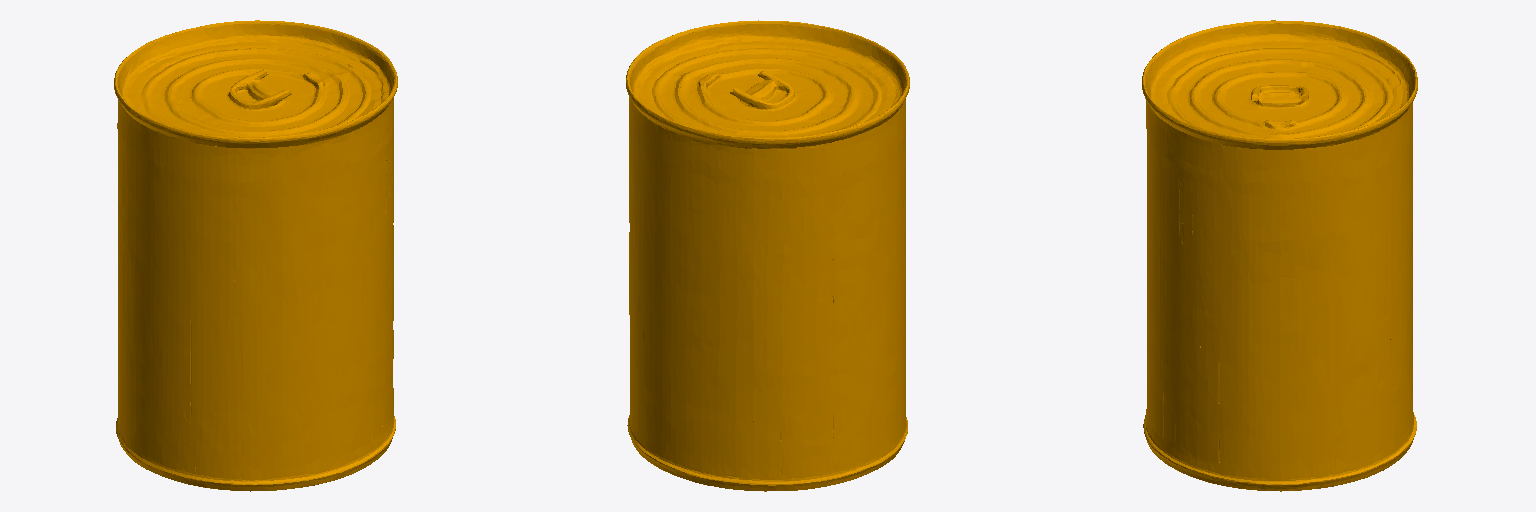
robot.urdf — sample:
<?xml version="1.0" ?>
<robot name="sample">
   <link name="sample">
      <visual>
         <origin xyz="0 0 0" rpy="1.5708 0.0 0.0"/>
         <geometry>
            <mesh filename="mesh/sample.obj" scale="1.0 1.0 1.0"/>
         </geometry>
      </visual>
      <collision>
         <origin xyz="0 0 0" rpy="1.5708 0.0 0.0"/>
         <geometry>
            <mesh filename="mesh/sample_collision.obj" scale="1.0 1.0 1.0"/>
         </geometry>
         <gazebo>
            <mu1>0.70</mu1>
            <mu2>0.50</mu2>
         </gazebo>
      </collision>
      <inertial>
         <mass value="0.5000"/>
         <origin xyz="0 0 0"/>
         <inertia ixx="1.0" ixy="0.0" ixz="0.0" iyy="1.0" iyz="0.0" izz="1.0"/>
      </inertial>
      <extra_info>
         <scale>0.135000</scale>
         <version>v0.1.7</version>
         <category>canned food</category>
         <description>blue labeled cylindrical can with fruit imagery</description>
         <min_height>0.12</min_height>
         <max_height>0.15</max_height>
         <real_height>0.135</real_height>
         <min_mass>0.4</min_mass>
         <max_mass>0.6</max_mass>
         <color>blue</color>
         <rgba>[0.0, 0.5, 1.0, 1.0]</rgba>
         <generate_time>20260615170915</generate_time>
         <gs_model>mesh/sample_gs.ply</gs_model>
      </extra_info>
   </link>
   <custom_data>
      <quality>
         <MeshGeoChecker>YES</MeshGeoChecker>
         <ImageSegChecker>NO, object is not fully extracted; background artifacts and incomplete segmentation present.</ImageSegChecker>
         <ImageAestheticChecker>4.249580144882202</ImageAestheticChecker>
         <overall>NO</overall>
      </quality>
   </custom_data>
</robot>

--- Render facts (derived) ---
The picture shows the robot from 3 angles, left to right: view 1: azimuth 30°, elevation 25°; view 2: azimuth 150°, elevation 25°; view 3: azimuth 270°, elevation 25°; orthographic projection.
Robot: sample — 1 links, 0 joints (none); root link sample; default pose: every joint at zero.
Links seen in each view (by area): view 1: sample; view 2: sample; view 3: sample.
Boxes of the visible links, x1,y1,x2,y2 form: sample: (114, 20, 397, 491); sample: (626, 20, 909, 491); sample: (1142, 20, 1417, 491).
Bounding box of the posed robot: 0.0984 × 0.0955 × 0.135 m (x, y, z).
Meshes: 1 distinct files referenced, 1 mesh visuals loaded (1 OBJ).
